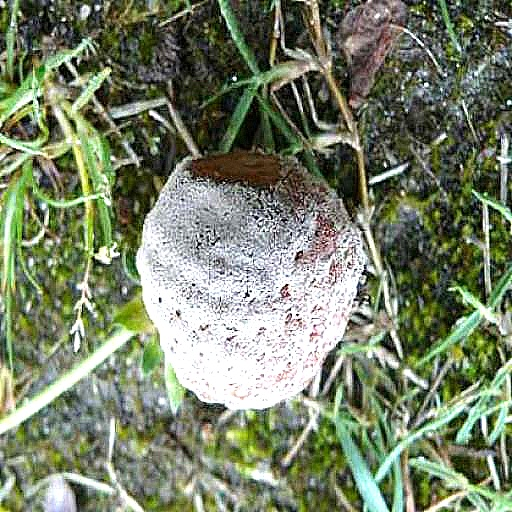Gray Mold: (136, 101, 367, 363)
